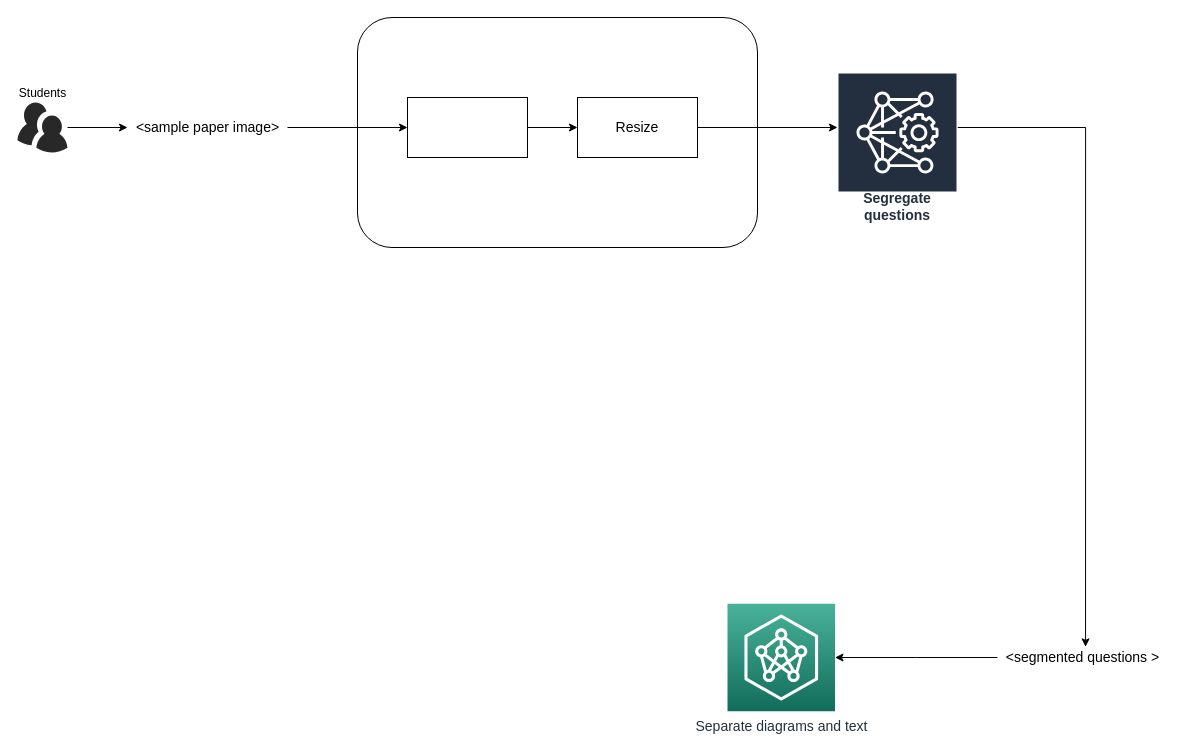
Some shapes in this 1184 by 753 pixel diagram are drawn without their labels. Here are the shapes that lost their labels. From the top down, the box of each, then its label:
(406, 96, 528, 158): Convert PDFs to images
(356, 16, 758, 248): Preprocessing
